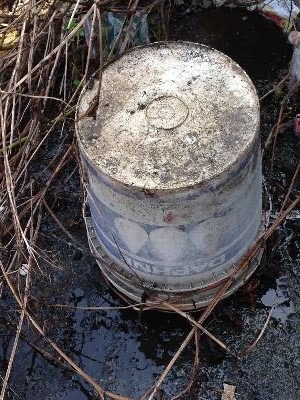bucket: (73, 39, 266, 314)
